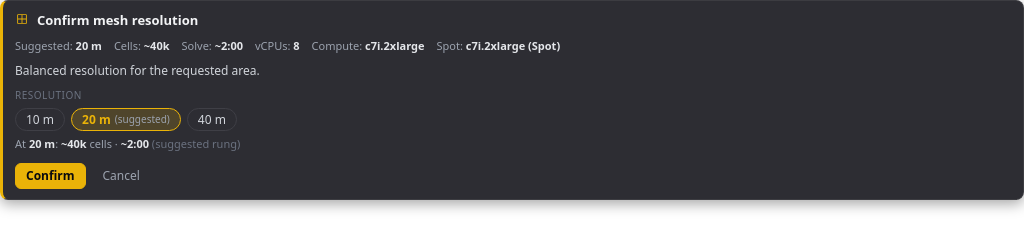
Test case: ResolutionPickerCard - live recompute on chip change › live-updates cells + ETA when a coarser rung is picked
Click the radio button with test id "resolution-picker-chip-40" at (212, 120), box 187,108 -> 237,131
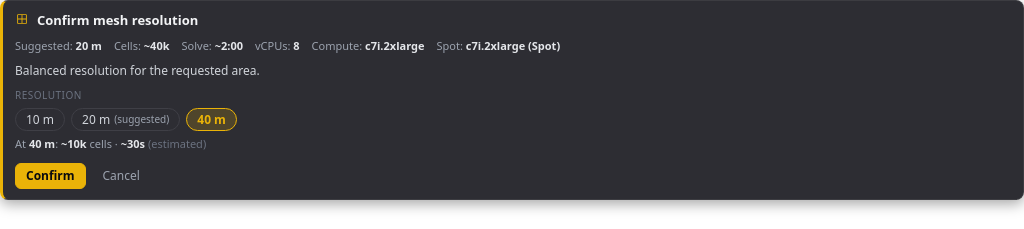
Check: the text with test id "resolution-picker-readout-cells" reads "~10k", box 61,136 -> 87,151
Check: the text with test id "resolution-picker-readout-eta" reads "~30s", box 121,136 -> 145,151
